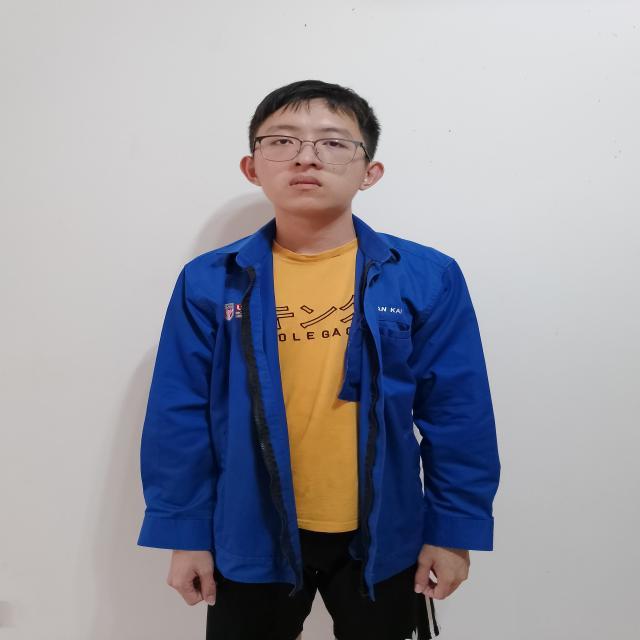person_with_labcoat: (140, 80, 499, 640)
